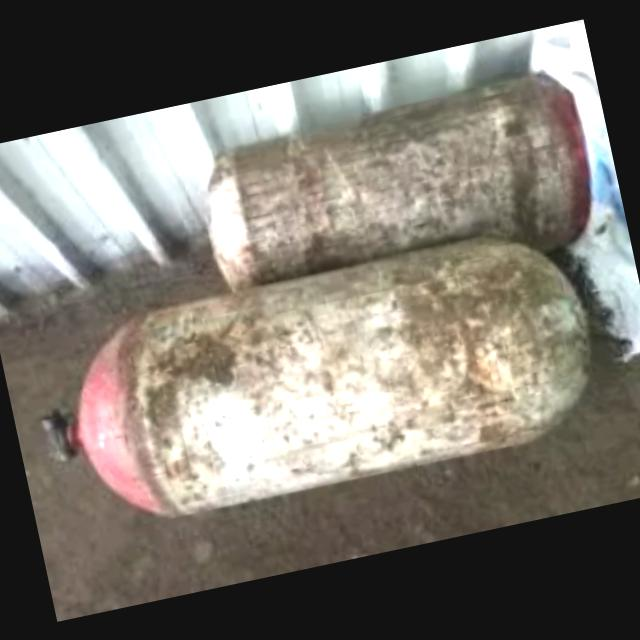Cylinders: (33, 230, 594, 522), (202, 55, 596, 291)
